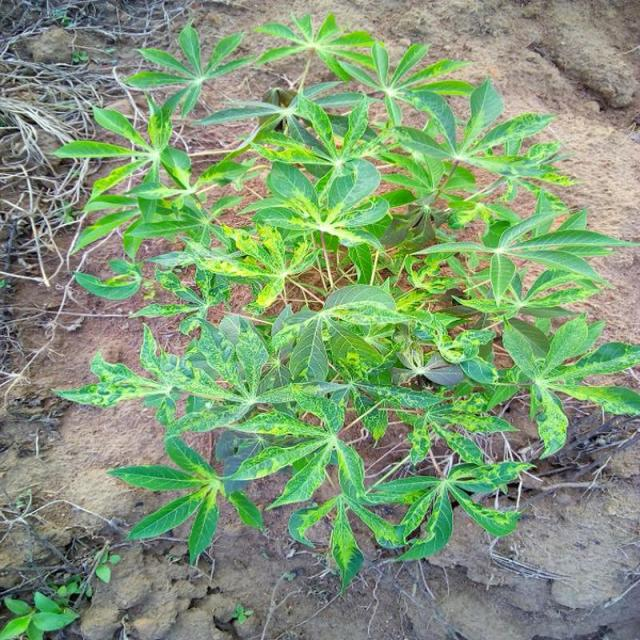cassava leaf: (52, 13, 639, 593)
